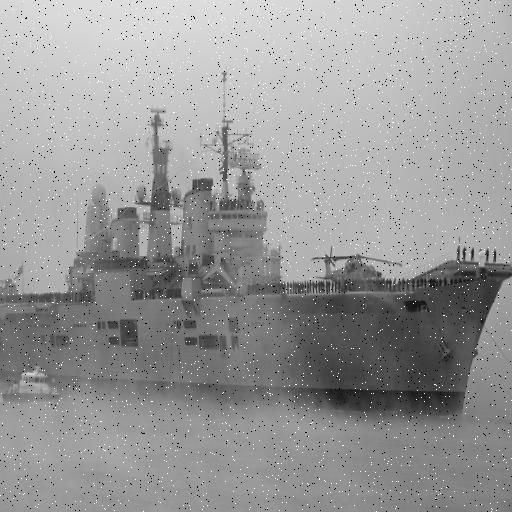Portanaves: (1, 75, 512, 425)
